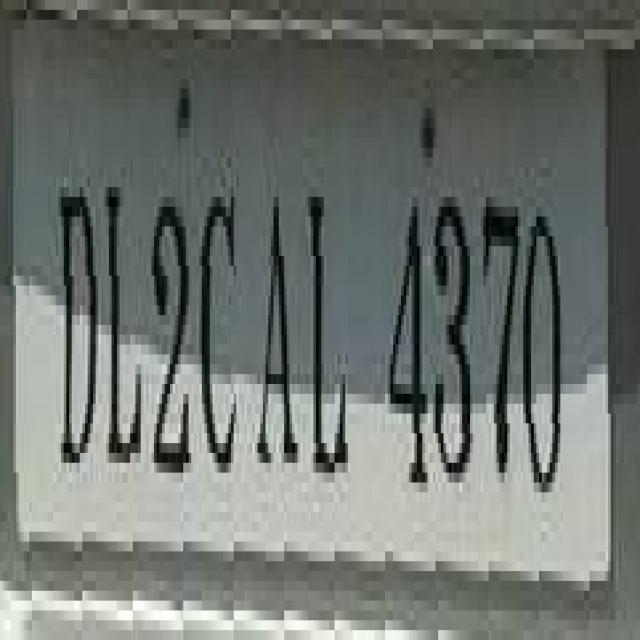license_plate: (0, 0, 605, 620)
